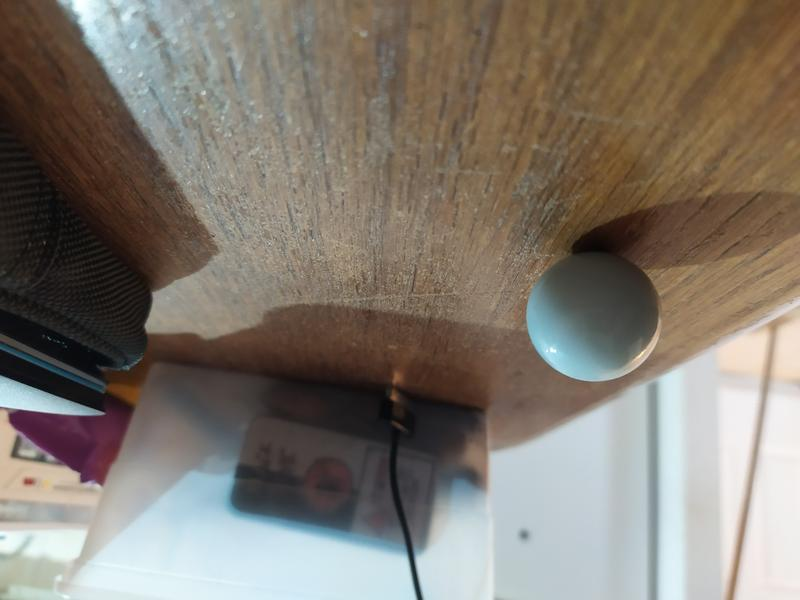Warning: (522, 247, 668, 385)
